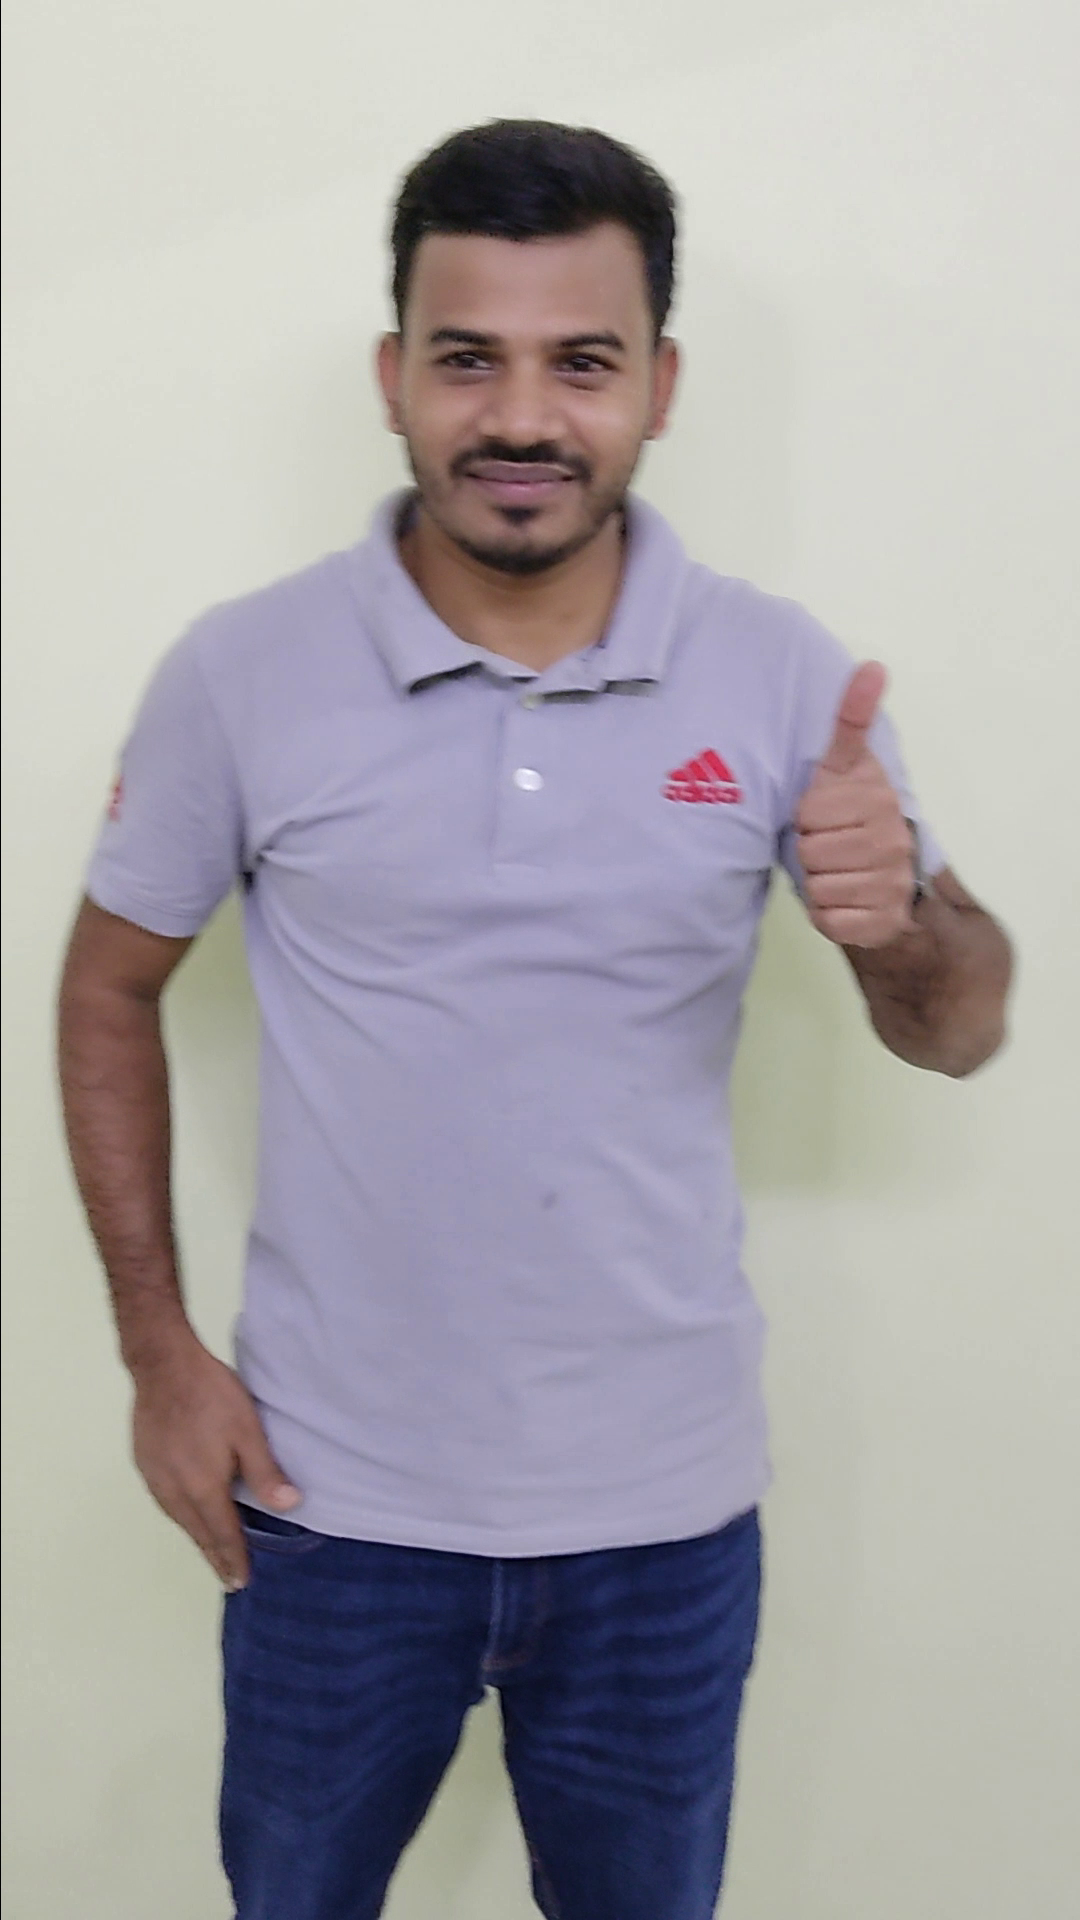Like: (738, 637, 964, 963)
None: (111, 1317, 316, 1607)
